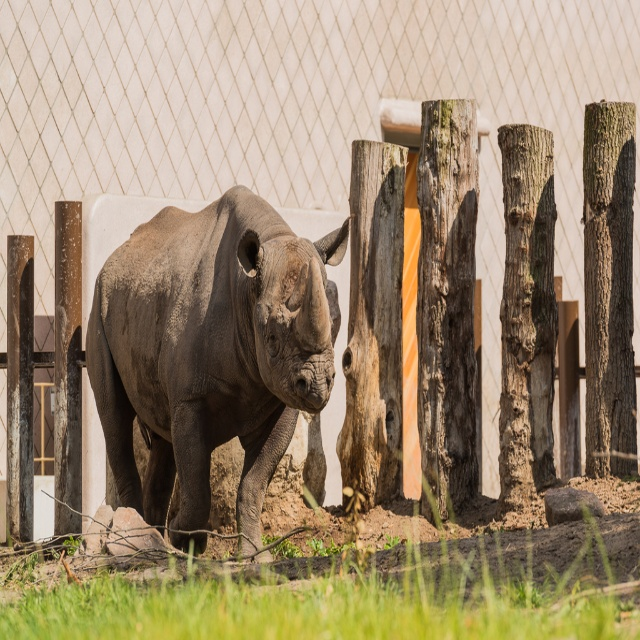Rhinoceros: (82, 180, 359, 568)
